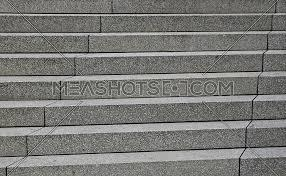Bench: (8, 0, 277, 170)
